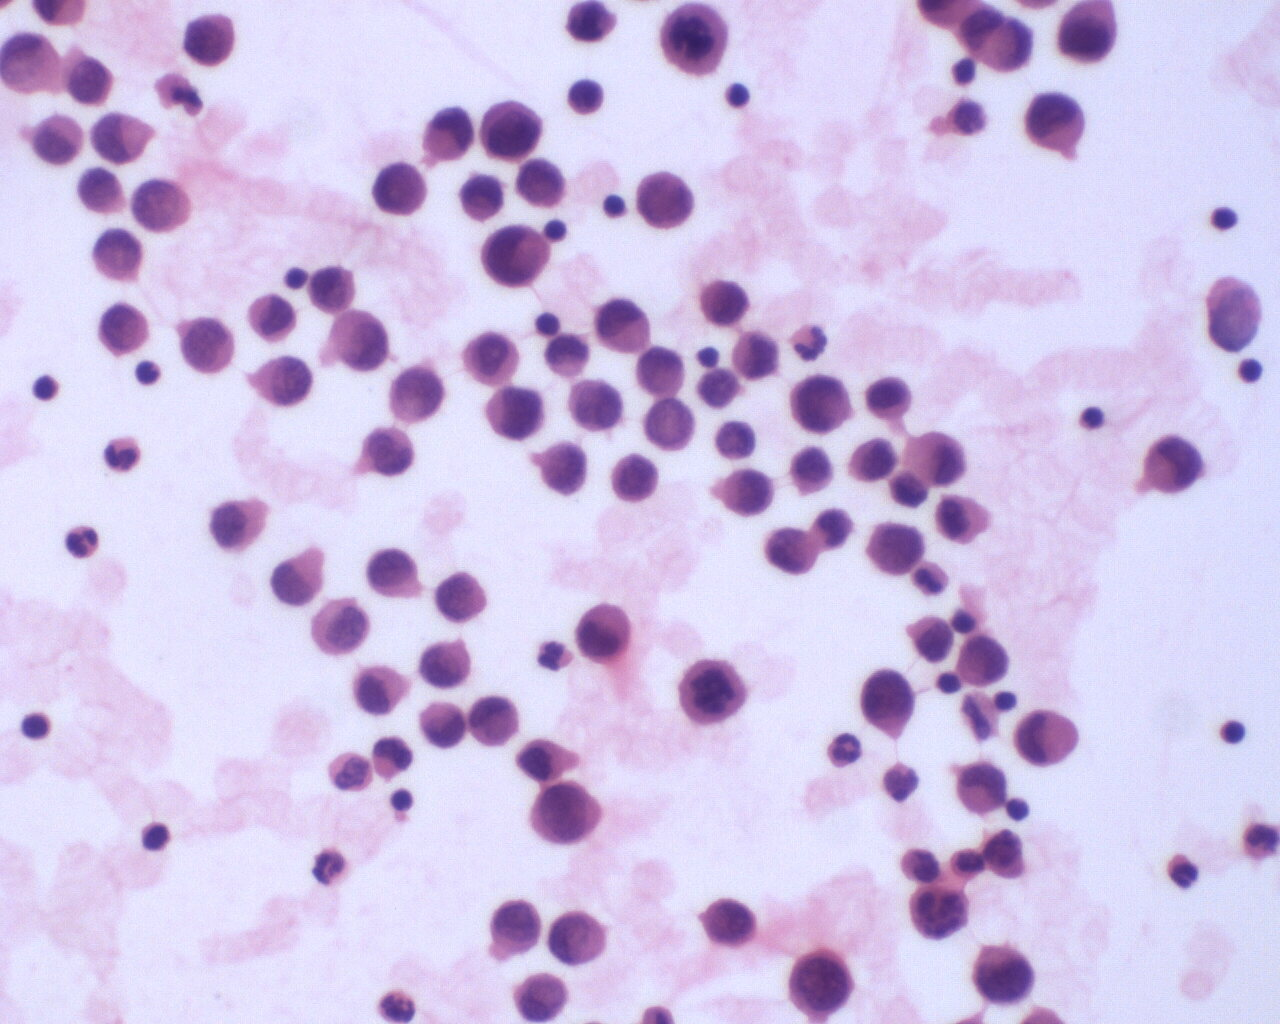ab: (657, 1, 732, 82), (783, 945, 857, 1023), (676, 652, 751, 728), (479, 222, 556, 294), (970, 939, 1045, 1011), (530, 779, 606, 850), (857, 664, 921, 743), (789, 369, 856, 435), (478, 97, 546, 161), (480, 383, 549, 447), (544, 906, 608, 973), (1054, 1, 1123, 63), (860, 518, 928, 580), (1024, 88, 1087, 154), (307, 594, 373, 656), (508, 965, 578, 1024), (636, 166, 696, 233), (130, 176, 196, 235), (174, 311, 234, 377), (366, 546, 428, 608), (486, 894, 543, 961), (176, 9, 237, 71), (385, 363, 446, 423), (85, 228, 145, 287), (61, 47, 119, 108), (564, 376, 626, 434), (370, 160, 430, 217), (96, 297, 152, 358), (461, 326, 517, 386), (250, 358, 316, 409), (695, 275, 752, 330), (702, 895, 761, 950), (718, 464, 772, 521), (957, 632, 1014, 686), (417, 632, 471, 689), (75, 163, 127, 219), (430, 571, 488, 622), (763, 526, 818, 578), (515, 155, 568, 208), (635, 343, 689, 396), (306, 266, 358, 320), (458, 168, 506, 224), (609, 453, 660, 505)
lymph: (137, 814, 174, 853), (20, 707, 53, 746), (1216, 713, 1249, 749), (721, 80, 755, 113), (1210, 200, 1241, 233), (29, 370, 60, 403), (389, 783, 416, 816), (1080, 401, 1108, 430)
neutro: (308, 847, 354, 891), (824, 730, 864, 770), (103, 433, 142, 473), (64, 520, 101, 562), (1167, 851, 1203, 888)
